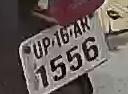1: (35, 63, 50, 89), (53, 29, 62, 47)
5: (65, 46, 84, 73), (50, 55, 65, 82)
6: (81, 34, 97, 65), (59, 26, 70, 43)
A: (73, 22, 82, 38)
K: (81, 16, 90, 33)
P: (43, 37, 51, 55)
U: (33, 41, 44, 61)
